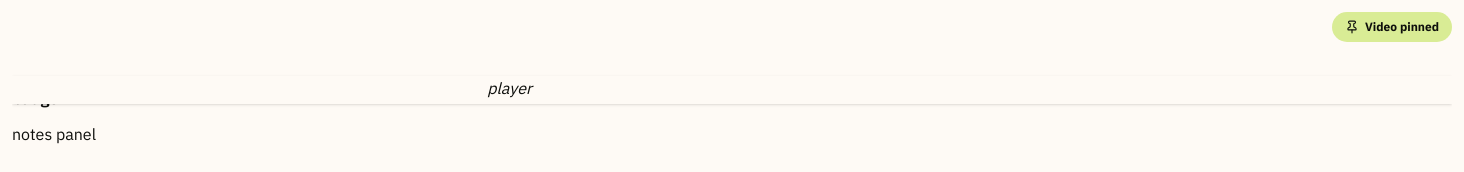
Test case: workspace on a phone › pins the video under the navigation bar, and lets you unpin it
This screenshot has width=1464, height=172.
Click the button "Video pinned" at (1392, 27), box [1332, 12, 1452, 42]
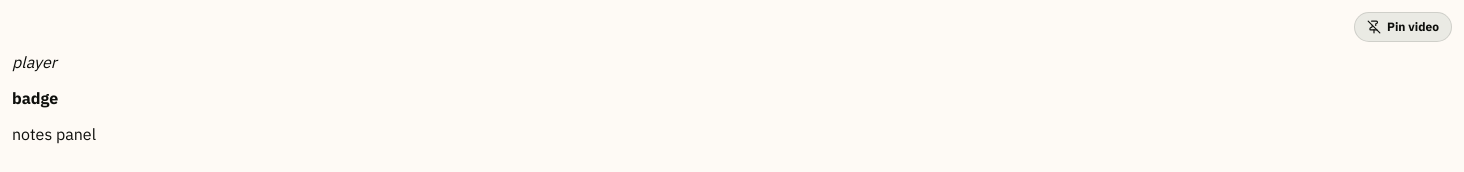
Result: the button "Pin video" is not pressed at [1354, 12, 1452, 42]
